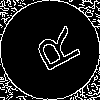R: (25, 25, 83, 79)
